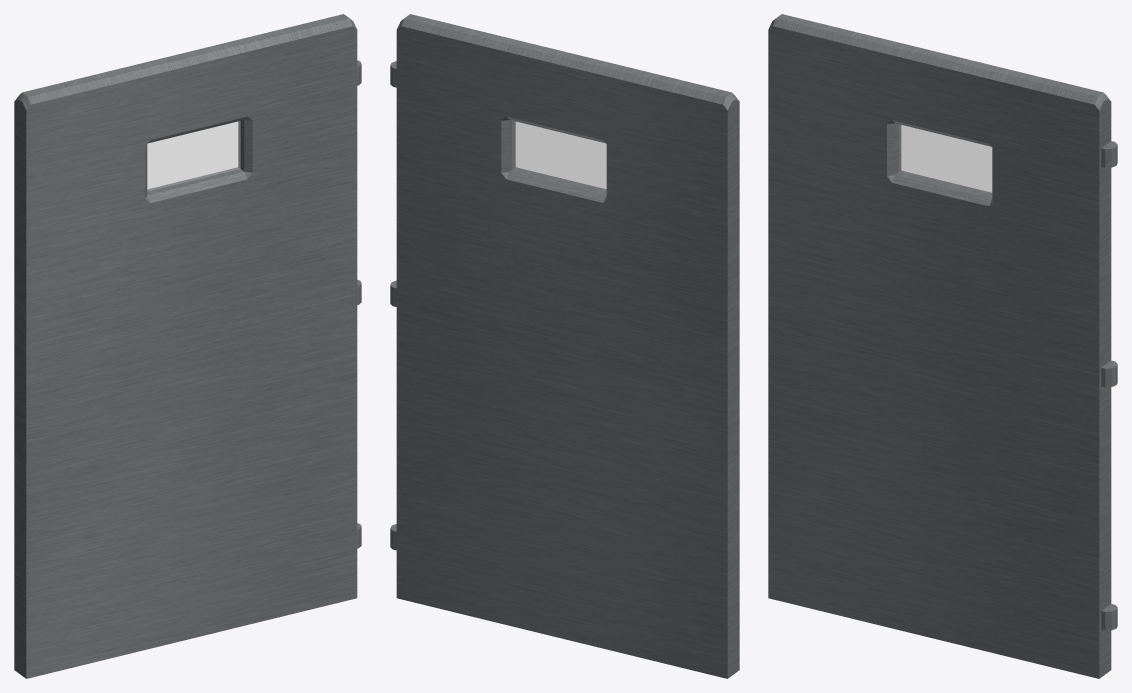
The model's file is doorToBeTested.fbx.
3 views of the same model, side by side, from view 1: azimuth 30°, elevation 25°; view 2: azimuth 150°, elevation 25°; view 3: azimuth 330°, elevation 25° (orthographic).
Visible parts, largest first — view 1: polySurface4; view 2: polySurface4; view 3: polySurface4.
Part boxes in pixels (x1,y1,x2,y2): polySurface4: (14, 14, 361, 678); polySurface4: (390, 14, 739, 678); polySurface4: (768, 14, 1117, 678).
Bounding box in the file's own units: 4.77 × 7.73 × 0.2945.
2 materials, 1 textured.
